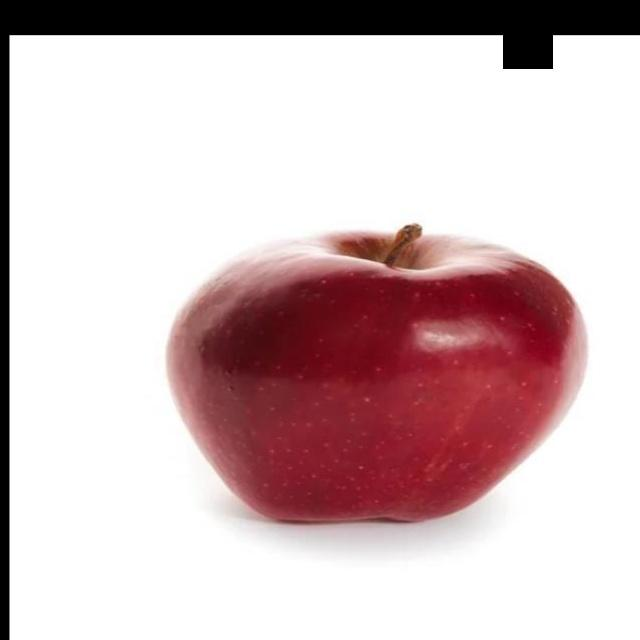red apple: (158, 221, 599, 528)
